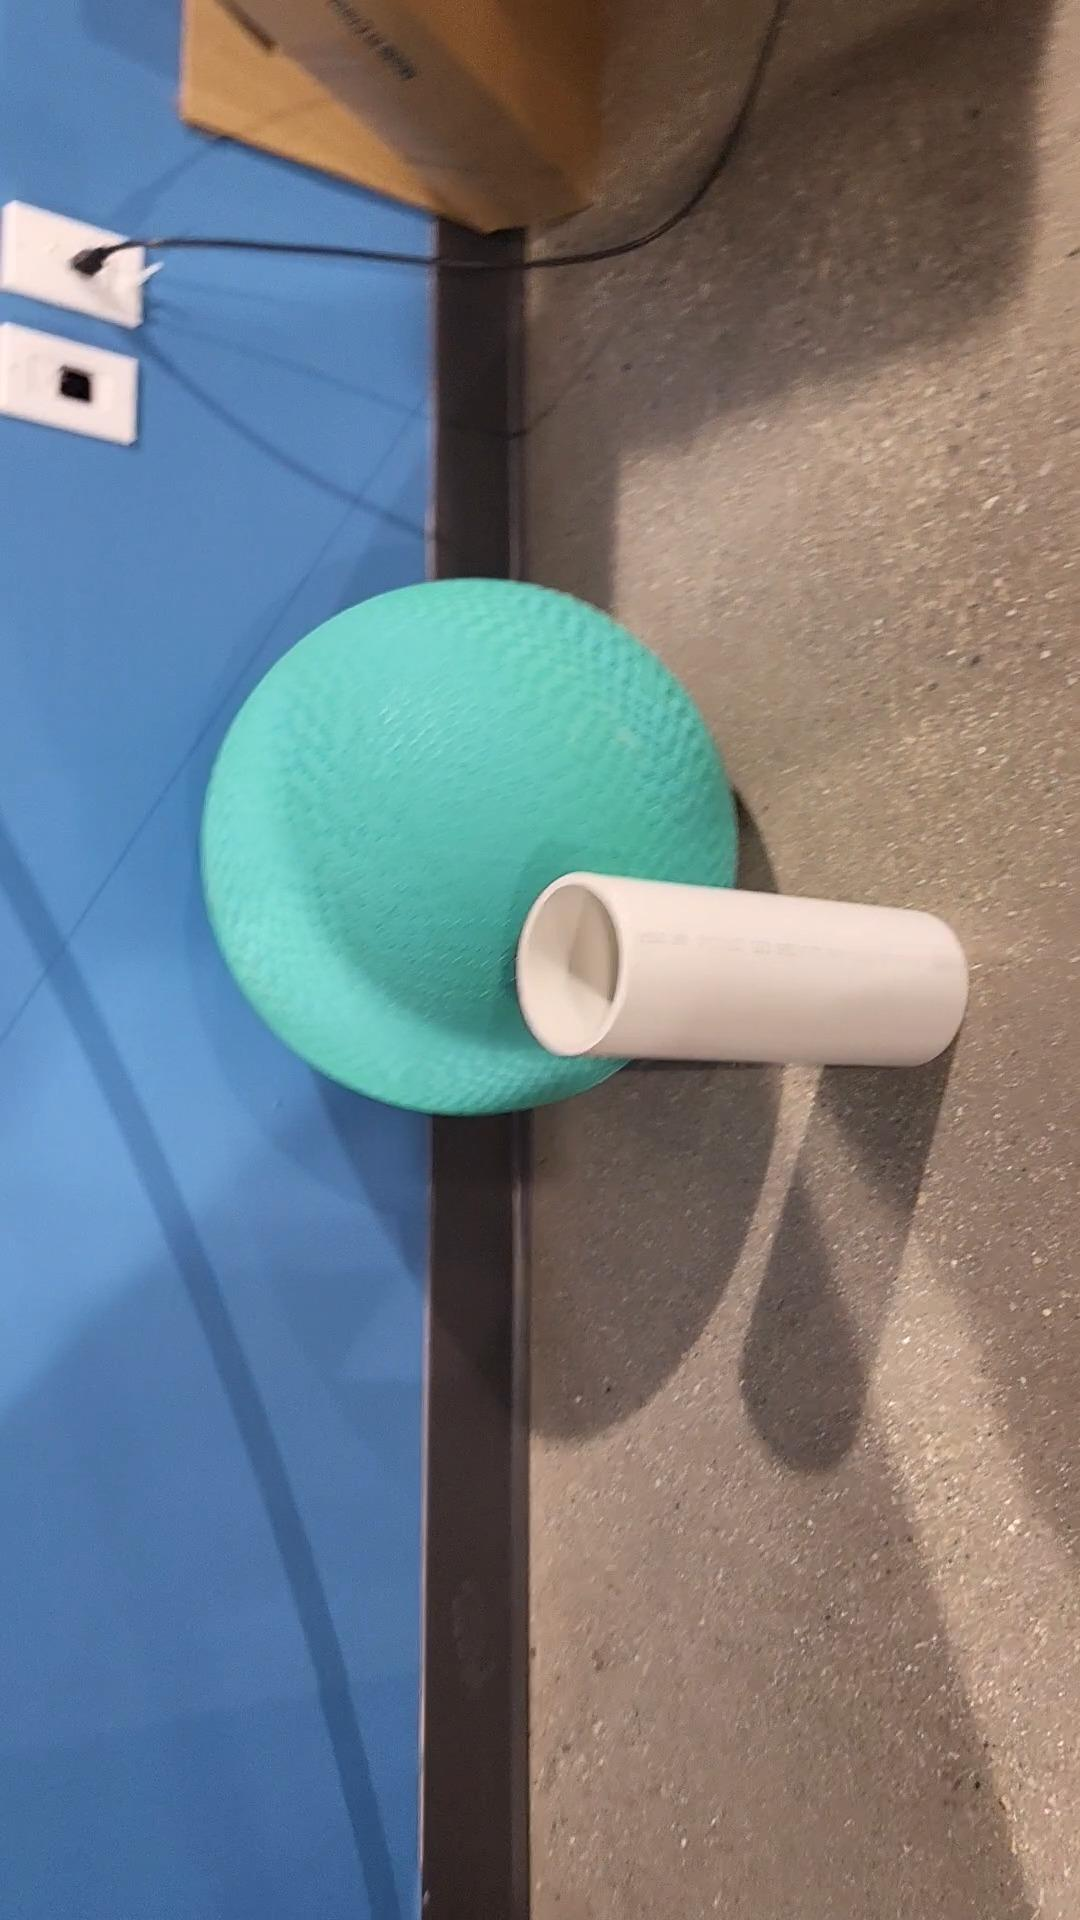algae: (207, 578, 731, 1110)
coral: (517, 873, 971, 1069)
